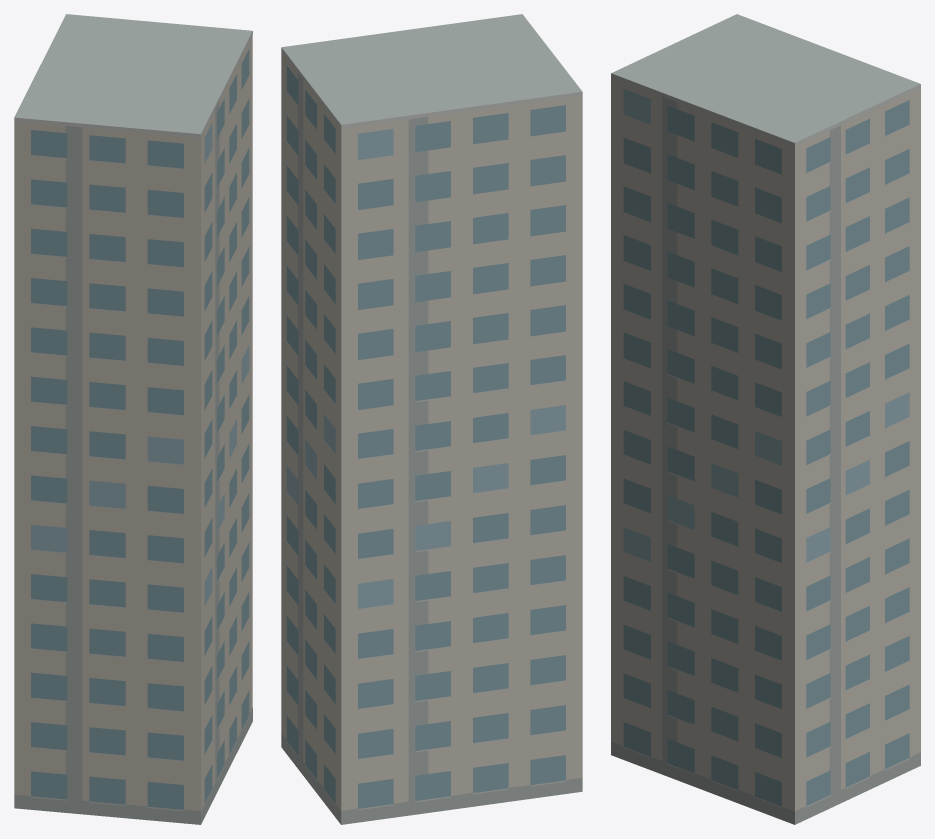
The model's file is residential-d80a8d80-6433-4e68-a96e-f8817f5a6e3a.glb.
The picture shows the model from 3 angles, left to right: view 1: azimuth 30°, elevation 25°; view 2: azimuth 150°, elevation 25°; view 3: azimuth 270°, elevation 25°; orthographic projection. The views are drawn at different scales.
Visible parts, largest first — view 1: residential-d80a8d80-6433-4e68-a96e-f8817f5a6e3a.tmp; view 2: residential-d80a8d80-6433-4e68-a96e-f8817f5a6e3a.tmp; view 3: residential-d80a8d80-6433-4e68-a96e-f8817f5a6e3a.tmp.
Boxes of the visible parts, x1,y1,x2,y2 form: residential-d80a8d80-6433-4e68-a96e-f8817f5a6e3a.tmp: (14, 14, 252, 824); residential-d80a8d80-6433-4e68-a96e-f8817f5a6e3a.tmp: (281, 14, 582, 824); residential-d80a8d80-6433-4e68-a96e-f8817f5a6e3a.tmp: (611, 14, 920, 824).
Size of the model in its own units: 18.27 by 45 by 18.53.
